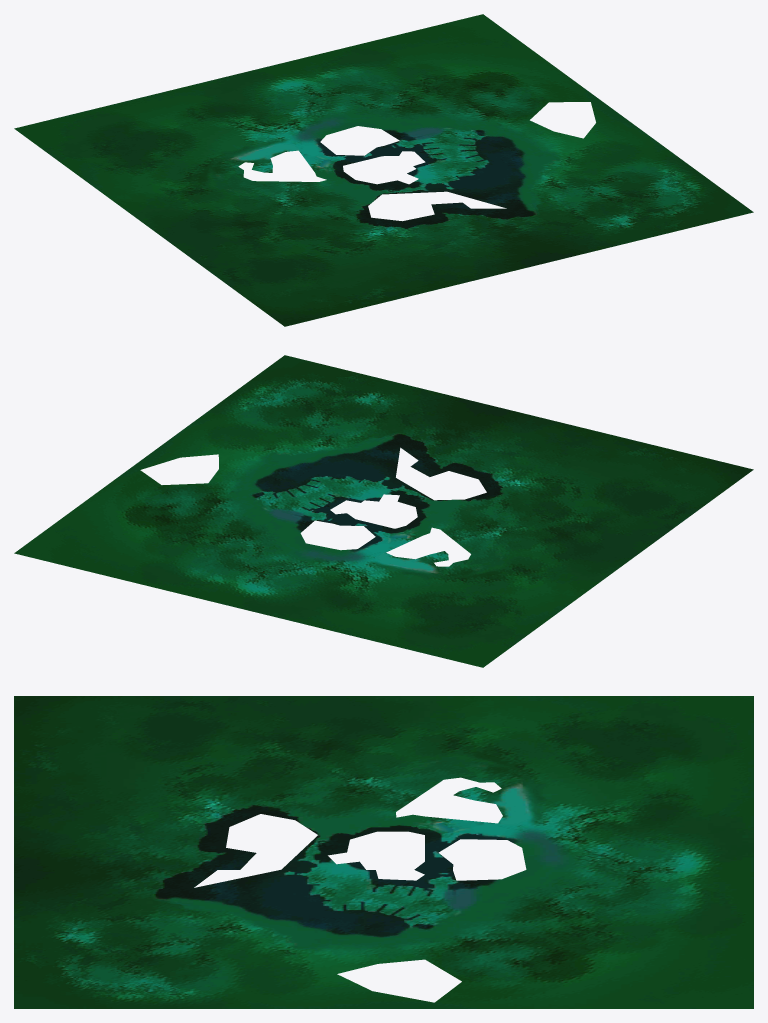
The model's file is T_UnderWater.fbx.
3 views of the same model, one above another, from view 1: azimuth 30°, elevation 25°; view 2: azimuth 150°, elevation 25°; view 3: azimuth 270°, elevation 25° (orthographic). The views are drawn at different scales.
Parts seen in each view (by area): view 1: T_UnderWater; view 2: T_UnderWater; view 3: T_UnderWater.
Boxes of the visible parts, x1,y1,x2,y2 form: T_UnderWater: [14, 14, 753, 326]; T_UnderWater: [14, 355, 753, 667]; T_UnderWater: [14, 696, 753, 1008].
Bounding box in the file's own units: 360 × 2.22e-14 × 360.
